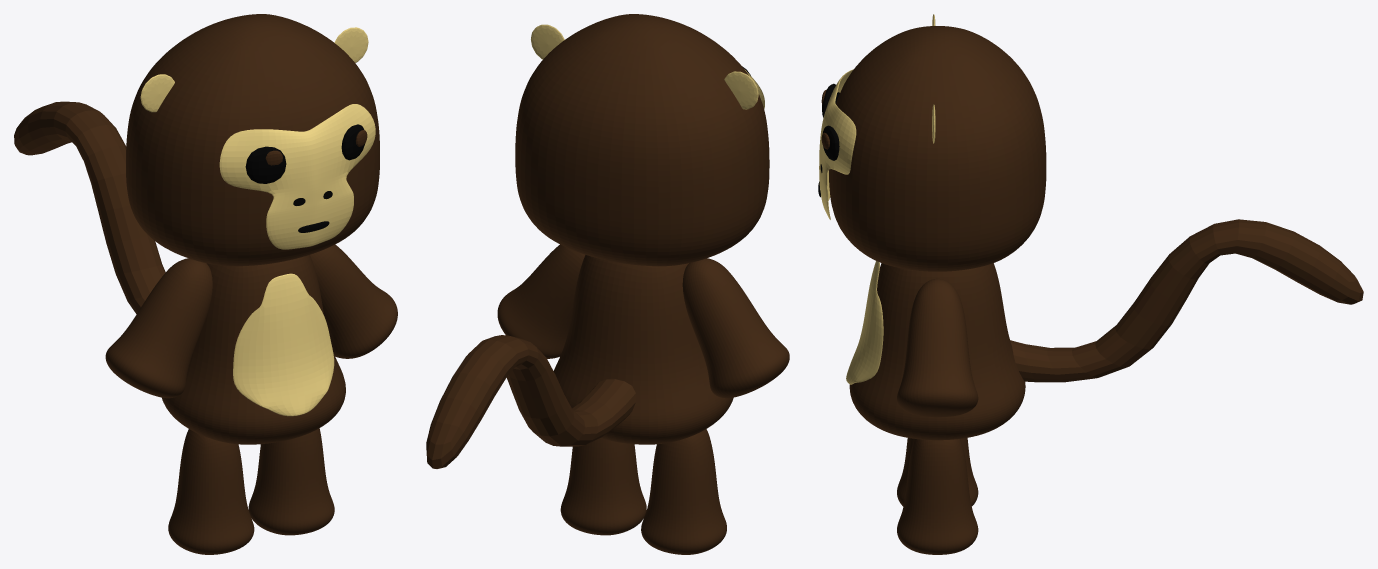
Rendered from Monkey.fbx.
3 views of the same model, side by side, from view 1: azimuth 30°, elevation 25°; view 2: azimuth 150°, elevation 25°; view 3: azimuth 270°, elevation 25° (orthographic). The views are drawn at different scales.
Visible parts, largest first — view 1: Cube.014; view 2: Cube.014; view 3: Cube.014.
Part boxes in pixels (left/top/right/bottom): Cube.014: left=14, top=14, right=397, bottom=554; Cube.014: left=426, top=14, right=789, bottom=554; Cube.014: left=818, top=14, right=1363, bottom=554.
Bounding box in the file's own units: 223 × 393 × 393.
